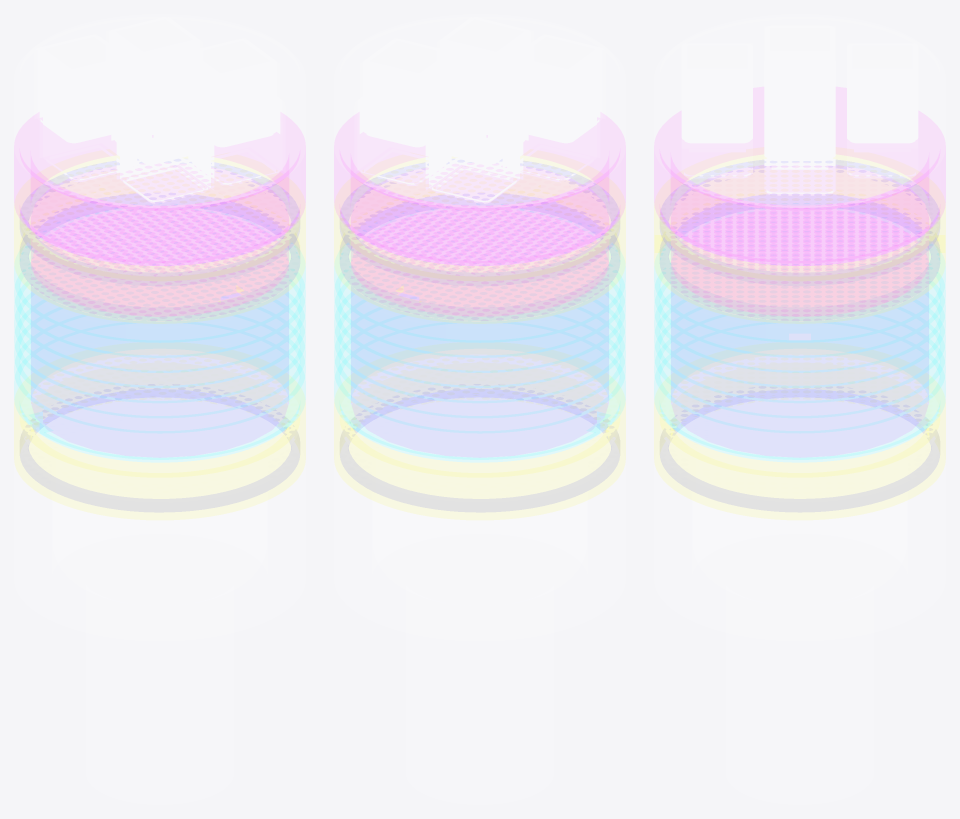
File: trial.glb
The picture shows the model from 3 angles, left to right: view 1: azimuth 30°, elevation 25°; view 2: azimuth 150°, elevation 25°; view 3: azimuth 270°, elevation 25°; orthographic projection.
Visible parts, largest first — view 1: av_1_impr_1_LV_Top_PMT_Cap_pv_11, av_1_impr_1_LV_Polythelne_Sheeth_pv_6, av_1_impr_1_LV_Bottom_PMT_Cap_pv_1, av_1_impr_1_LV_TopSpacer_pv_10, av_1_impr_1_LV_Electrode_Separation_Ring_pv_8, av_1_impr_1_LV_Electrode_Separation_Ring_No_Opening_pv_2; view 2: av_1_impr_1_LV_Top_PMT_Cap_pv_11, av_1_impr_1_LV_Polythelne_Sheeth_pv_6, av_1_impr_1_LV_Bottom_PMT_Cap_pv_1, av_1_impr_1_LV_TopSpacer_pv_10, av_1_impr_1_LV_Electrode_Separation_Ring_pv_8, av_1_impr_1_LV_Electrode_Separation_Ring_No_Opening_pv_2; view 3: av_1_impr_1_LV_Top_PMT_Cap_pv_11, av_1_impr_1_LV_Polythelne_Sheeth_pv_6, av_1_impr_1_LV_Bottom_PMT_Cap_pv_1, av_1_impr_1_LV_TopSpacer_pv_10, av_1_impr_1_LV_Electrode_Separation_Ring_pv_8, av_1_impr_1_LV_Electrode_Separation_Ring_No_Opening_pv_2.
Part boxes in pixels (x1,y1,x2,y2): av_1_impr_1_LV_Top_PMT_Cap_pv_11: (20,17,299,189); av_1_impr_1_LV_Polythelne_Sheeth_pv_6: (15,211,304,459); av_1_impr_1_LV_Bottom_PMT_Cap_pv_1: (21,408,297,573); av_1_impr_1_LV_TopSpacer_pv_10: (20,153,299,262); av_1_impr_1_LV_Electrode_Separation_Ring_pv_8: (20,188,299,302); av_1_impr_1_LV_Electrode_Separation_Ring_No_Opening_pv_2: (20,411,299,477); av_1_impr_1_LV_Top_PMT_Cap_pv_11: (340,17,619,189); av_1_impr_1_LV_Polythelne_Sheeth_pv_6: (335,209,624,459); av_1_impr_1_LV_Bottom_PMT_Cap_pv_1: (342,403,618,573); av_1_impr_1_LV_TopSpacer_pv_10: (340,153,619,262); av_1_impr_1_LV_Electrode_Separation_Ring_pv_8: (340,186,619,302); av_1_impr_1_LV_Electrode_Separation_Ring_No_Opening_pv_2: (340,412,619,477); av_1_impr_1_LV_Top_PMT_Cap_pv_11: (660,17,939,165); av_1_impr_1_LV_Polythelne_Sheeth_pv_6: (655,249,944,459); av_1_impr_1_LV_Bottom_PMT_Cap_pv_1: (660,427,939,573); av_1_impr_1_LV_TopSpacer_pv_10: (660,154,939,262); av_1_impr_1_LV_Electrode_Separation_Ring_pv_8: (655,190,945,280); av_1_impr_1_LV_Electrode_Separation_Ring_No_Opening_pv_2: (660,411,939,477).
Size of the model in its own units: 105 by 278 by 105.
